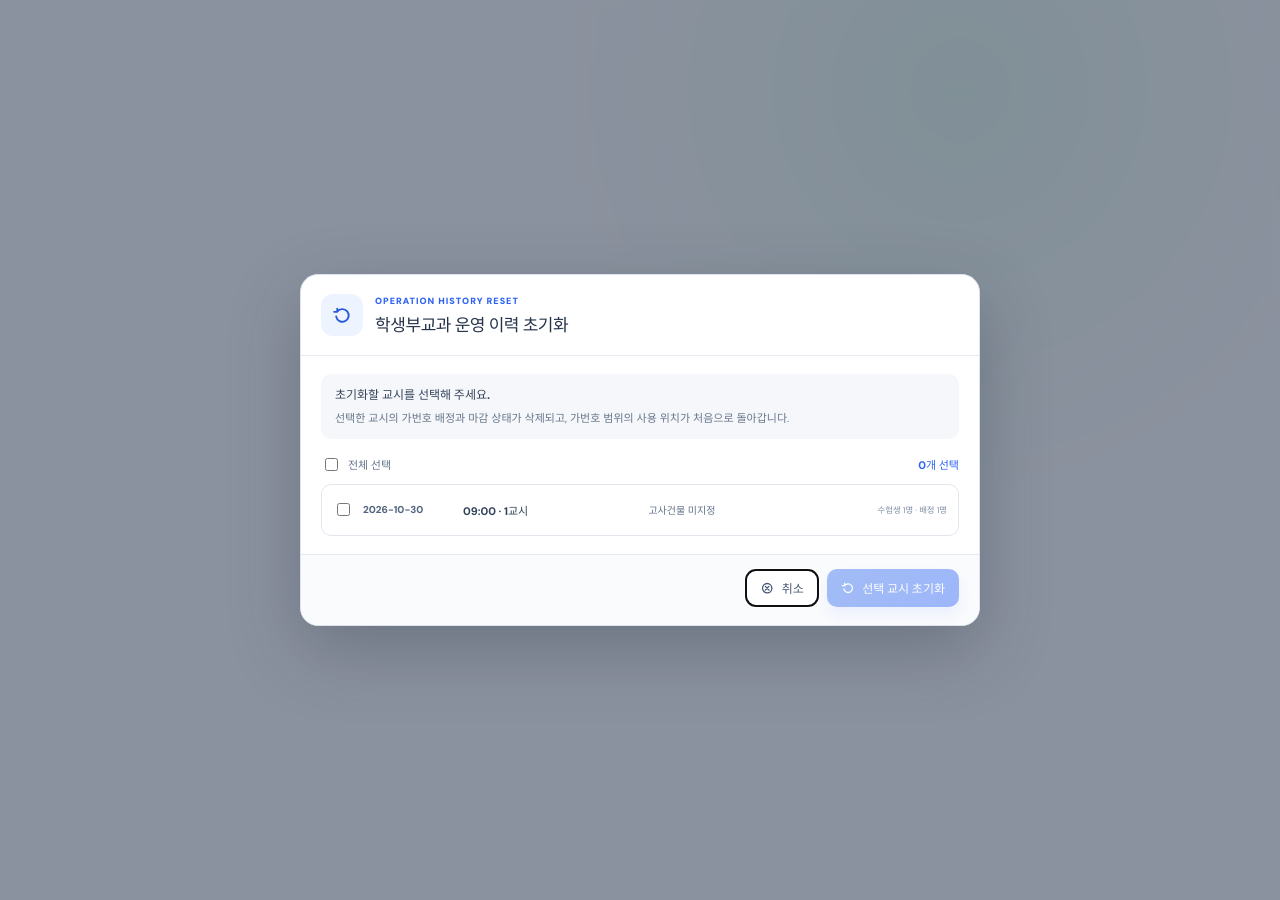
Test: reset 비밀번호 오류 시 창을 유지하고 비밀번호를 비워 재입력하도록 한다
Click the checkbox labelled "2026-10-30 09:00 · 1교시 고사건물 미지정 수험생 1명 · 배정 1명" at (344, 510), box x1=337 y1=503 x2=350 y2=516
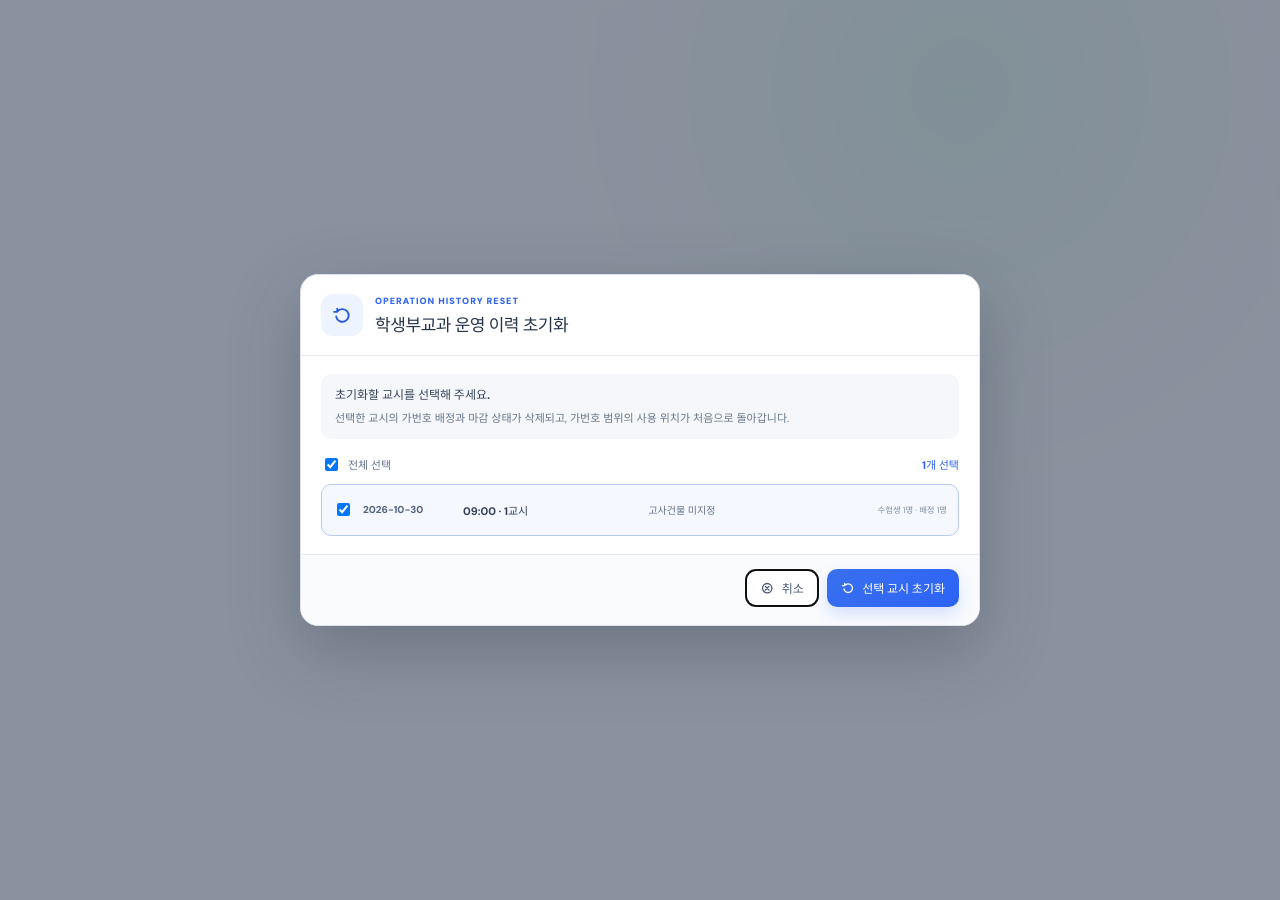
Click the button "선택 교시 초기화" at (893, 588), box x1=827 y1=569 x2=959 y2=607
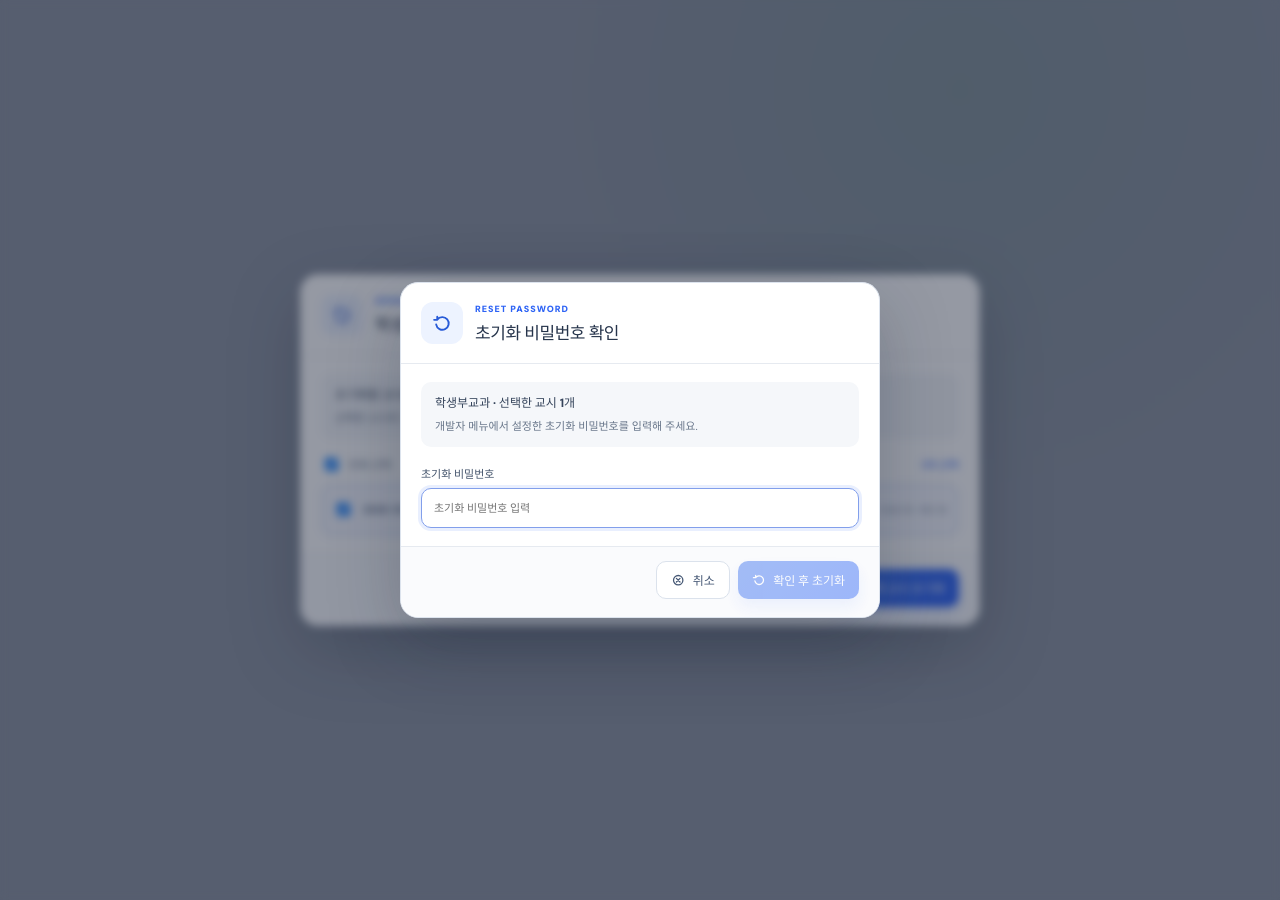
Type "wrong-password" into the password field labelled "초기화 비밀번호" at (640, 508), box x1=421 y1=488 x2=859 y2=528
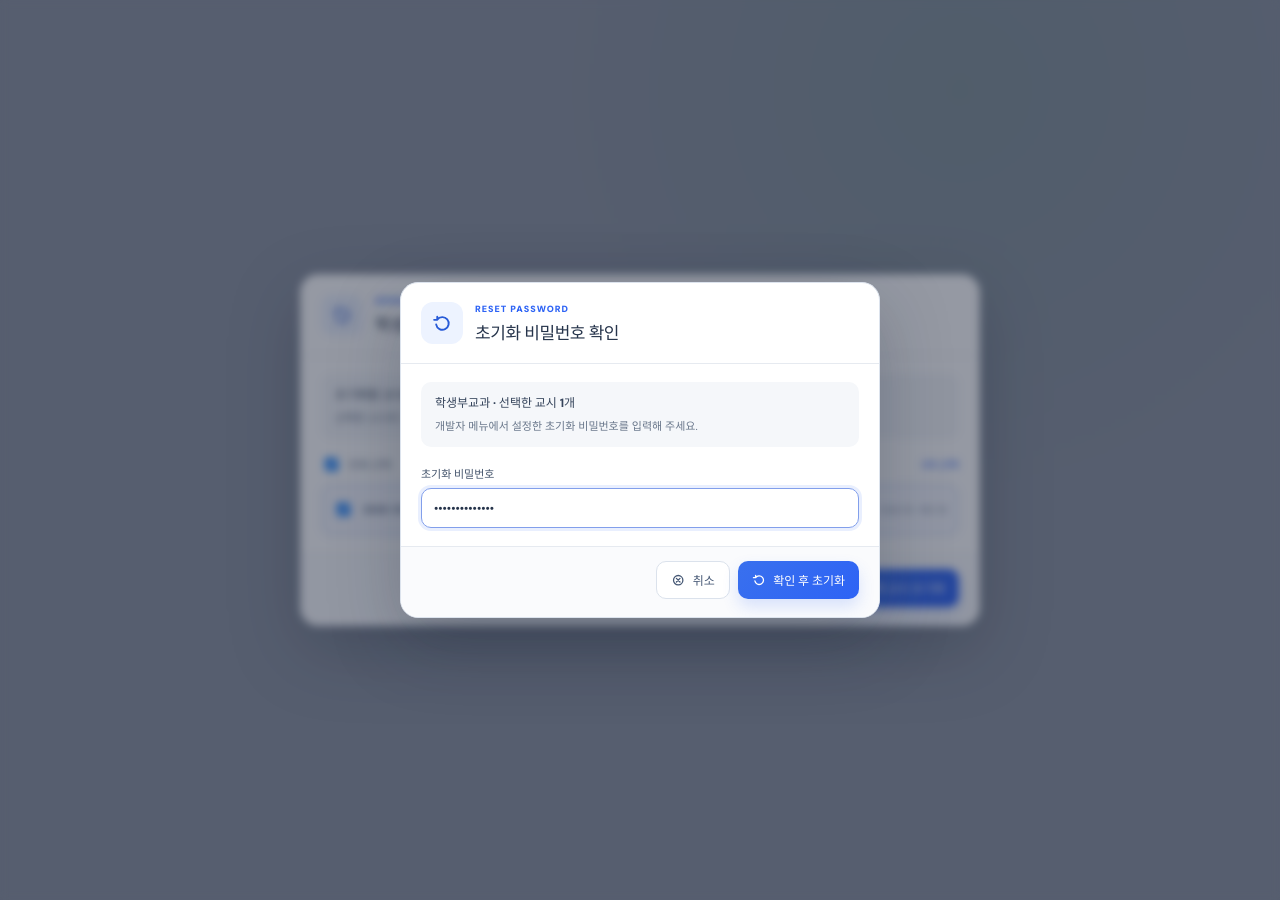
Submit the form labelled "초기화 비밀번호", box x1=400 y1=282 x2=880 y2=618
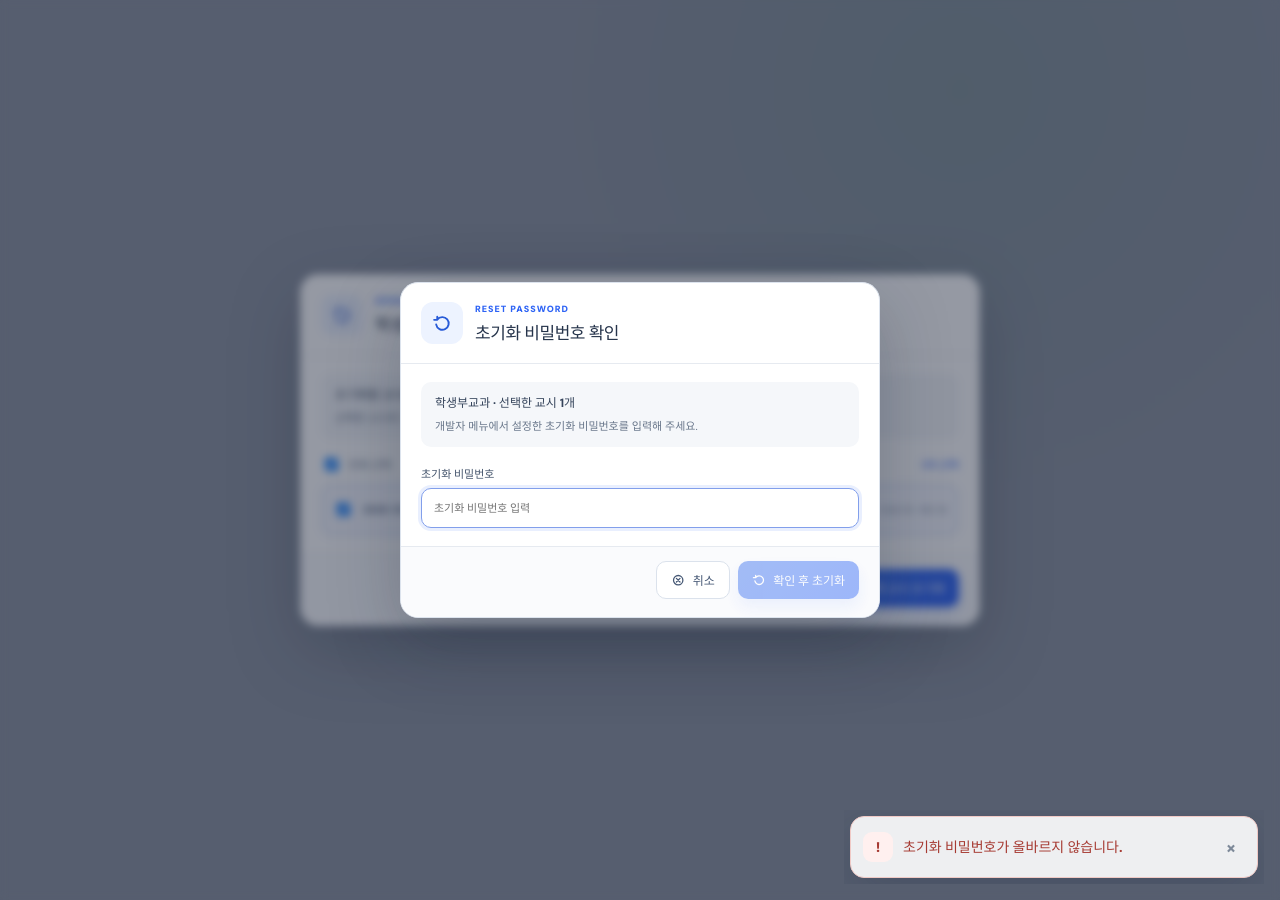
Now the message shows "초기화 비밀번호가 올바르지 않습니다.", box x1=903 y1=838 x2=1122 y2=856
Now the password field labelled "초기화 비밀번호" is empty, box x1=421 y1=488 x2=859 y2=528
Now the button "확인 후 초기화" is disabled, box x1=738 y1=561 x2=859 y2=599
